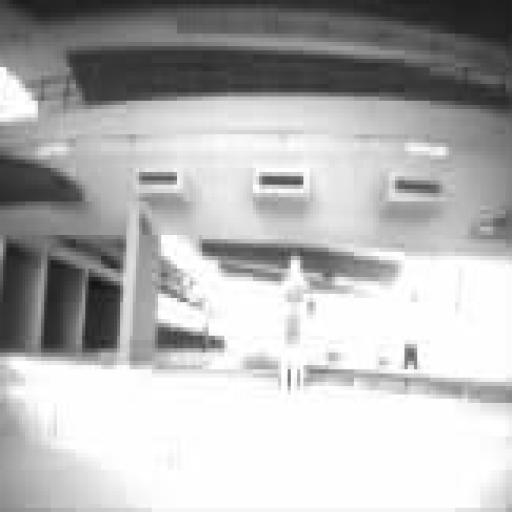human: (282, 256, 309, 390)
